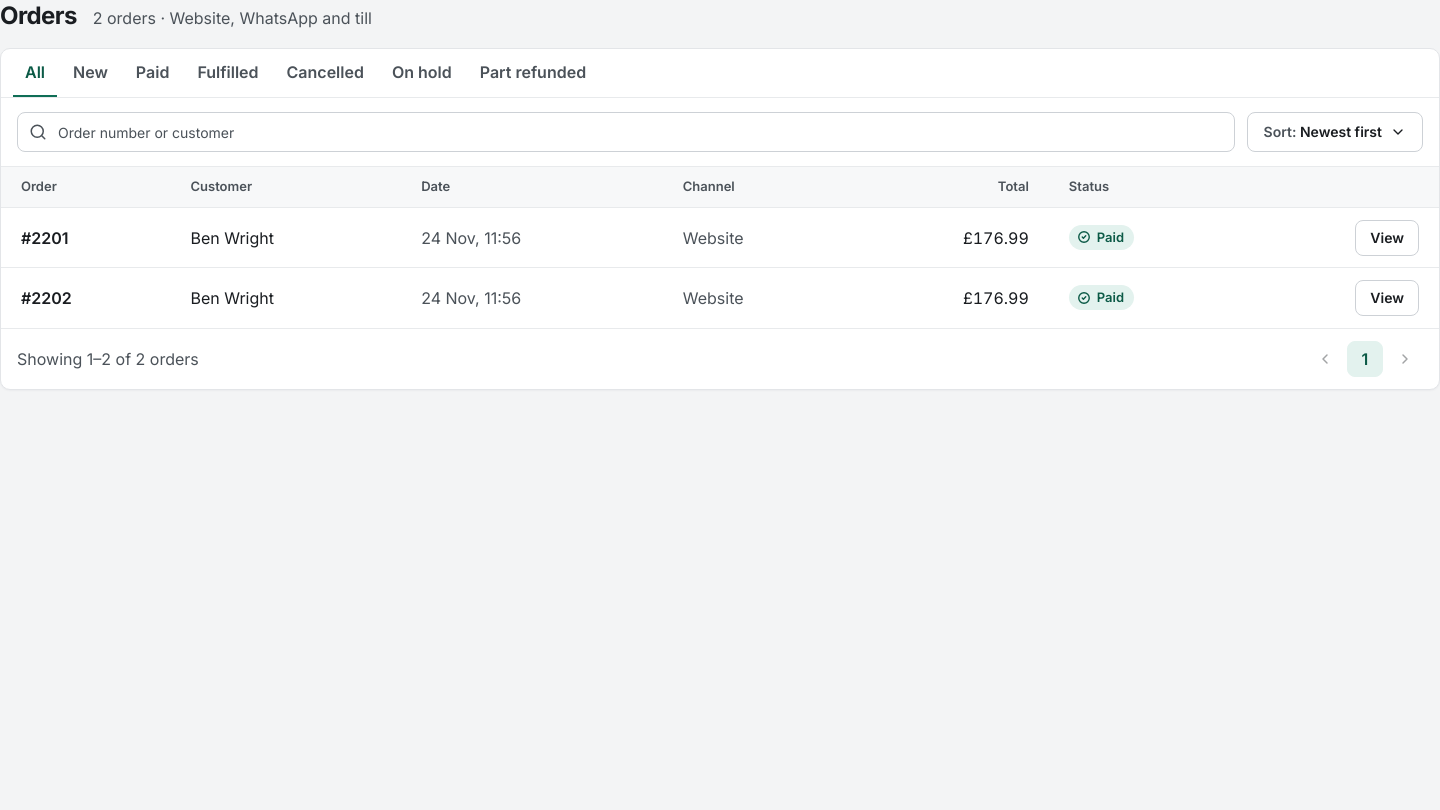
Order details › shows an error with a retry when the order cannot be loaded
Click the button with aria-label "View order #2201": (1387, 238) [1355,220,1419,256]
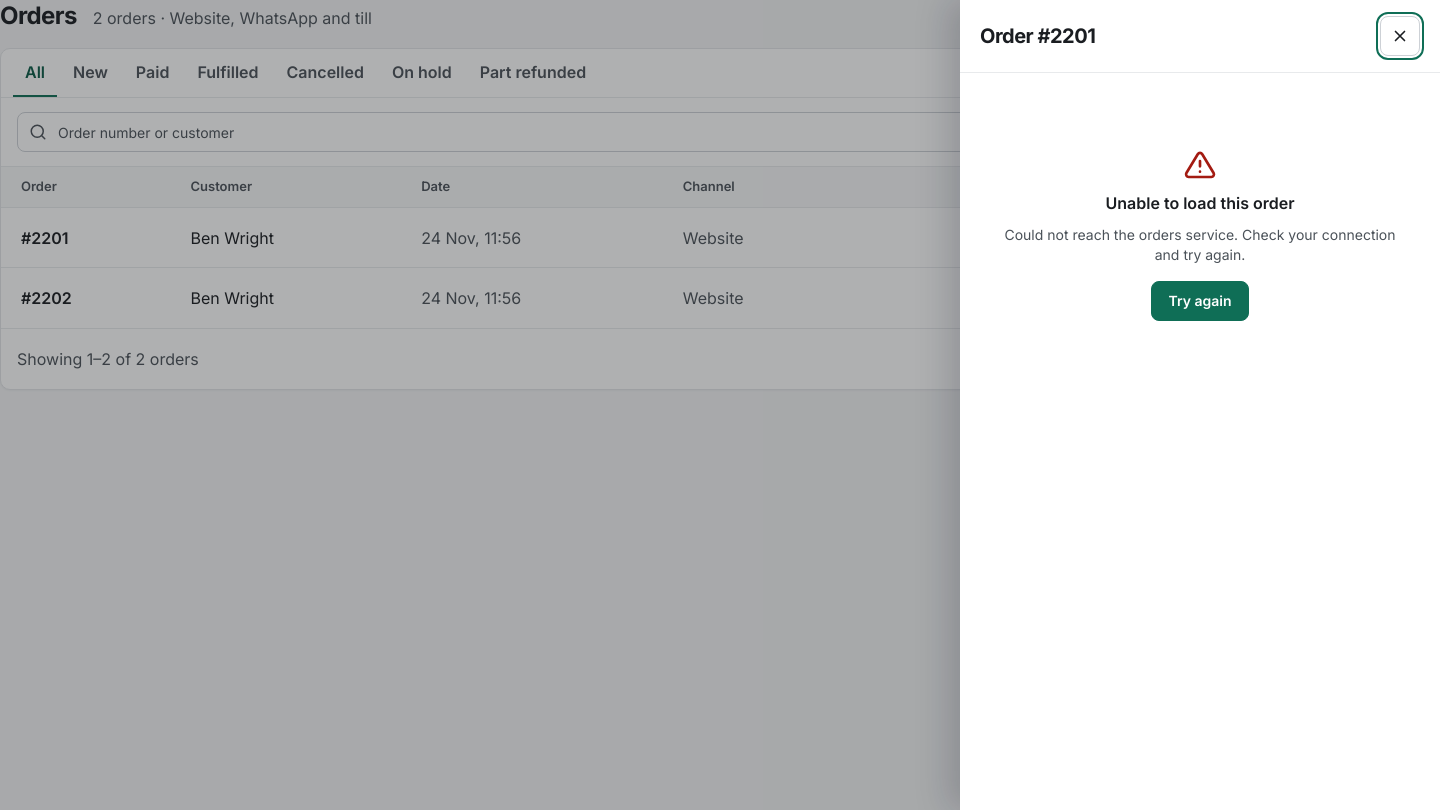
Check: the message shows "Unable to load this order", box [1106,193,1294,213]
Check: the message shows "Could not reach the orders service.", box [1004,226,1396,263]
Click the button "Try again": (1200, 301) [1152,281,1249,321]
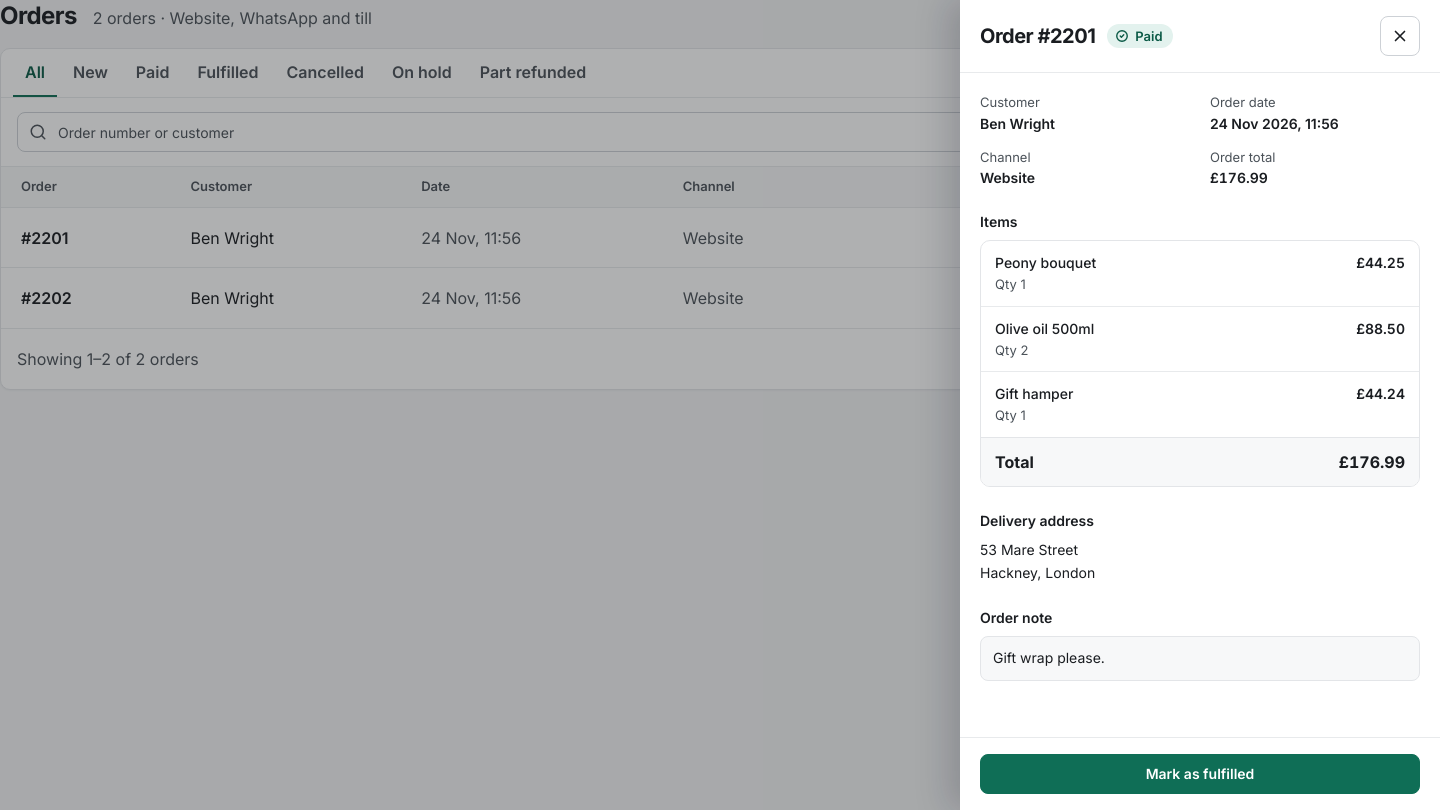
Check: the table named "Items in order #2201" is shown, box [981,241,1419,486]
